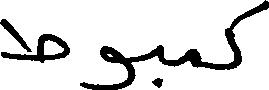X: (0, 14, 66, 67), (228, 0, 268, 74), (82, 41, 134, 89), (156, 40, 162, 89), (191, 44, 199, 72)
